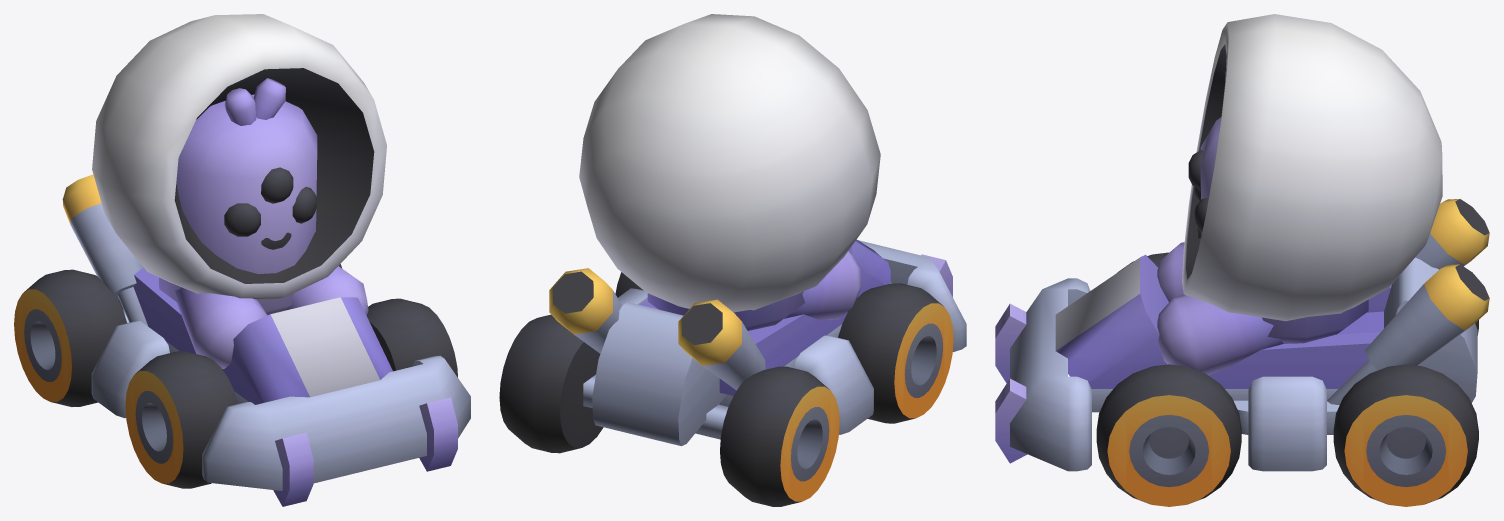
The model's file is k-car-kart-oobi.glb.
3 renders of one model, left to right at view 1: azimuth 30°, elevation 25°; view 2: azimuth 150°, elevation 25°; view 3: azimuth 270°, elevation 25°, orthographic. The views are drawn at different scales.
Visible parts, largest first — view 1: character, kart-oobi, wheel-back-right, wheel-front-right, wheel-front-left; view 2: character, kart-oobi, wheel-back-right, wheel-front-right, wheel-back-left; view 3: character, kart-oobi, wheel-front-left, wheel-back-left.
Boxes of the visible parts, x1,y1,x2,y2 form: character: (92,14,386,368); kart-oobi: (62,174,470,506); wheel-back-right: (14,269,126,406); wheel-front-right: (125,351,238,488); wheel-front-left: (366,298,457,377); character: (579,14,880,330); kart-oobi: (549,239,966,446); wheel-back-right: (720,366,839,506); wheel-front-right: (838,283,953,423); wheel-back-left: (499,314,603,453); character: (1157,14,1442,375); kart-oobi: (995,199,1489,471); wheel-front-left: (1096,364,1241,506); wheel-back-left: (1333,364,1478,506).
Size of the model in its own units: 0.9743 by 1.33 by 1.43.
1 material, 1 textured.
